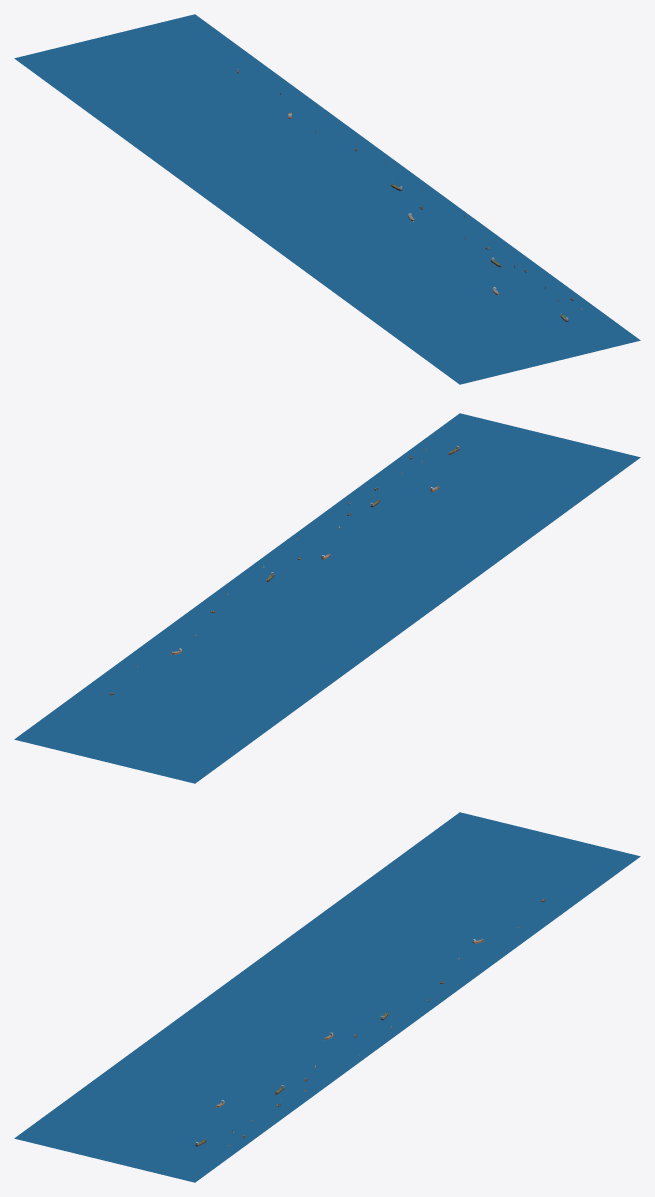
The model's file is _lvl_beach_water_and_ships.glb.
The picture shows the model from 3 angles, top to bottom: view 1: azimuth 30°, elevation 25°; view 2: azimuth 150°, elevation 25°; view 3: azimuth 330°, elevation 25°; orthographic projection.
Parts seen in each view (by area): view 1: SA_Env_WaterSquare_02 (1); view 2: SA_Env_WaterSquare_02 (1); view 3: SA_Env_WaterSquare_02 (1).
Part boxes in pixels (left/top/right/bottom): SA_Env_WaterSquare_02 (1): left=14, top=14, right=640, bottom=384; SA_Env_WaterSquare_02 (1): left=14, top=413, right=640, bottom=783; SA_Env_WaterSquare_02 (1): left=14, top=812, right=640, bottom=1182.
Size of the model in its own units: 1759 by 46.15 by 7500.
Materials: 1 (1 with a texture image).
